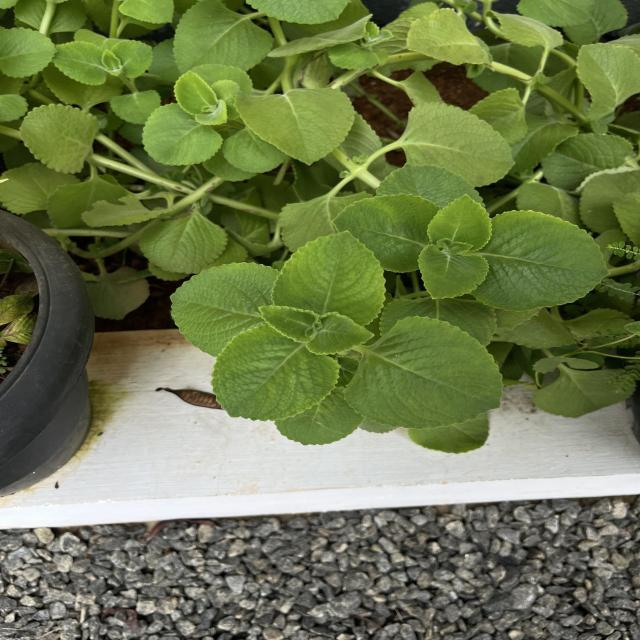Plectranthus barbatus: (342, 313, 506, 432), (209, 323, 342, 423), (491, 209, 612, 313), (269, 228, 388, 328), (168, 260, 281, 358), (401, 100, 518, 192), (232, 87, 356, 168), (330, 192, 434, 274), (172, 0, 274, 75), (18, 102, 104, 175), (140, 102, 224, 167), (416, 244, 491, 301), (426, 194, 494, 254), (306, 311, 376, 356), (0, 26, 59, 79), (256, 304, 321, 344), (54, 40, 109, 86)
